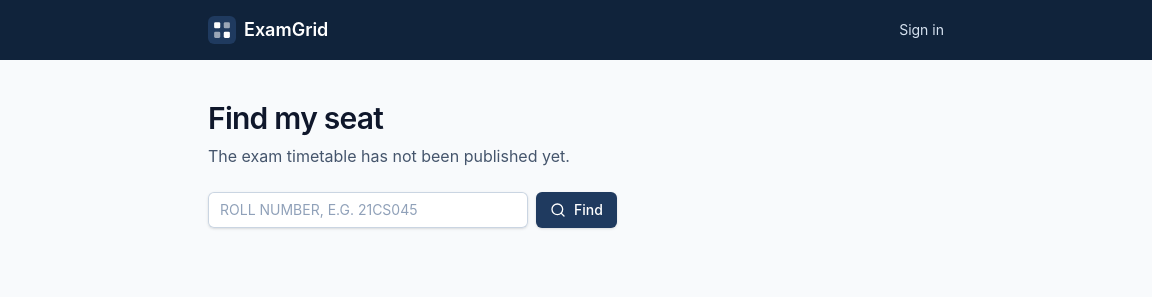
SeatFinderPage › explains an unknown roll number and a rate-limited network
Check: the text "The exam timetable has not been published yet." is shown, box [208,146,570,166]
Type "zz999" into the field labelled "Roll number".
click(368, 210); type("zz999")  # box [208,192,528,228]
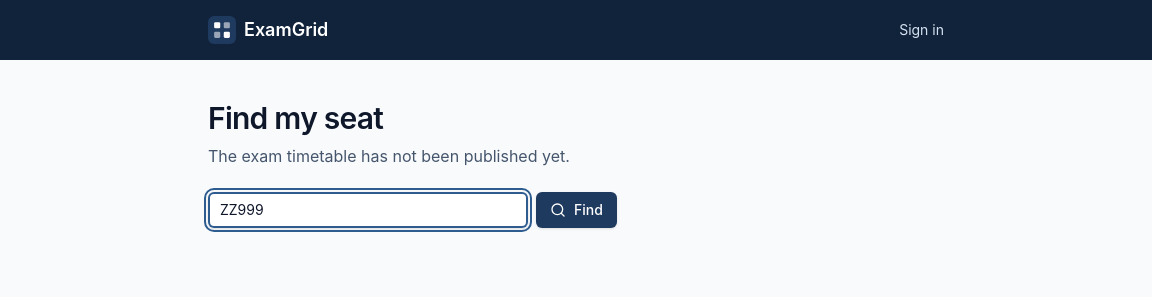
Click the button "Find".
click(576, 210)  # box [536,192,617,228]
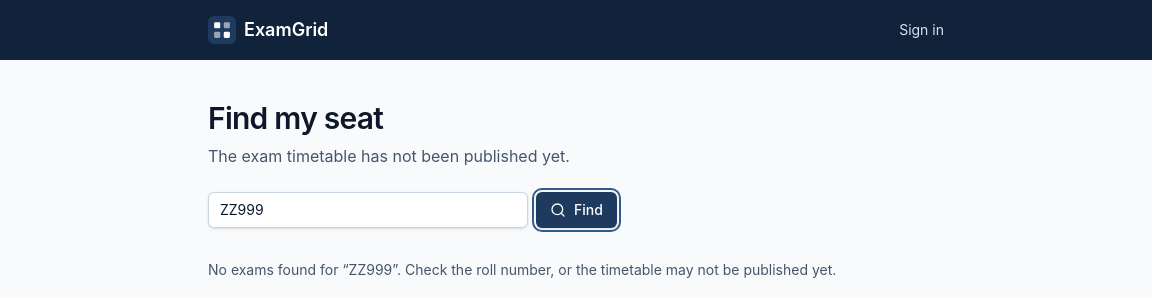
Check: the text "No exams found for “ZZ999”" is shown, box [208,260,944,280]
Click the button "Find".
click(576, 210)  # box [536,192,617,228]
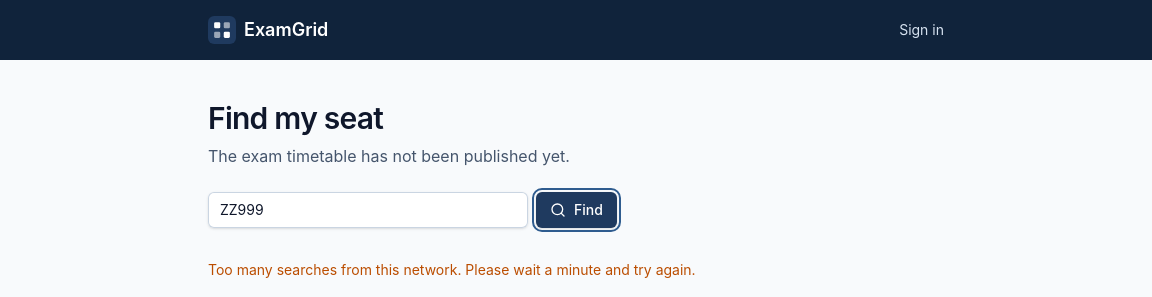
Check: the text "Too many searches from this network" is shown, box [208,261,696,278]
